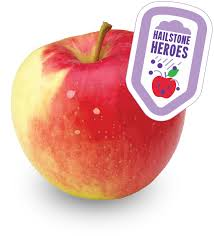apple: (10, 25, 190, 200)
